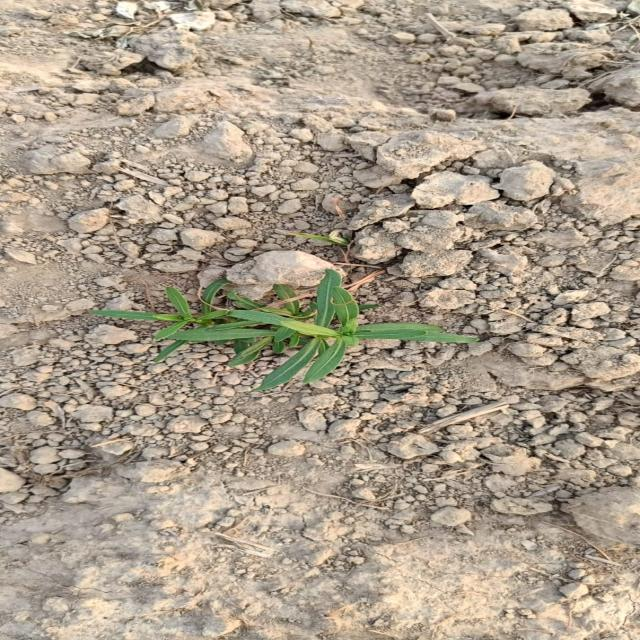plant: (93, 270, 471, 389)
